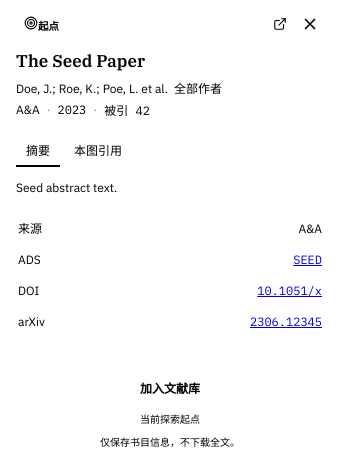
Test: DiscoveryDetail › citations tab preserves the legacy active-tab presentation and lists in-graph citations
Click the button with class "rdt" showing "本图引用" at (98, 151), box [64,134,132,167]
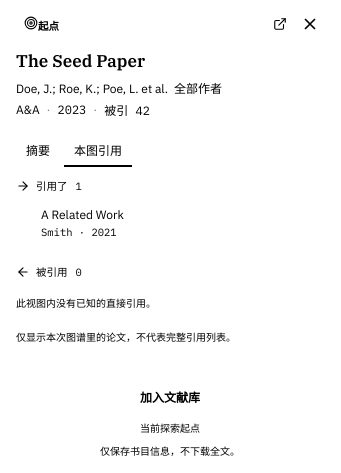
Expected: the text "A Related Work" is shown, [41,207,124,223]
Expected: the number of buttons with class "cg-conn" is 1, [16,199,324,247]
